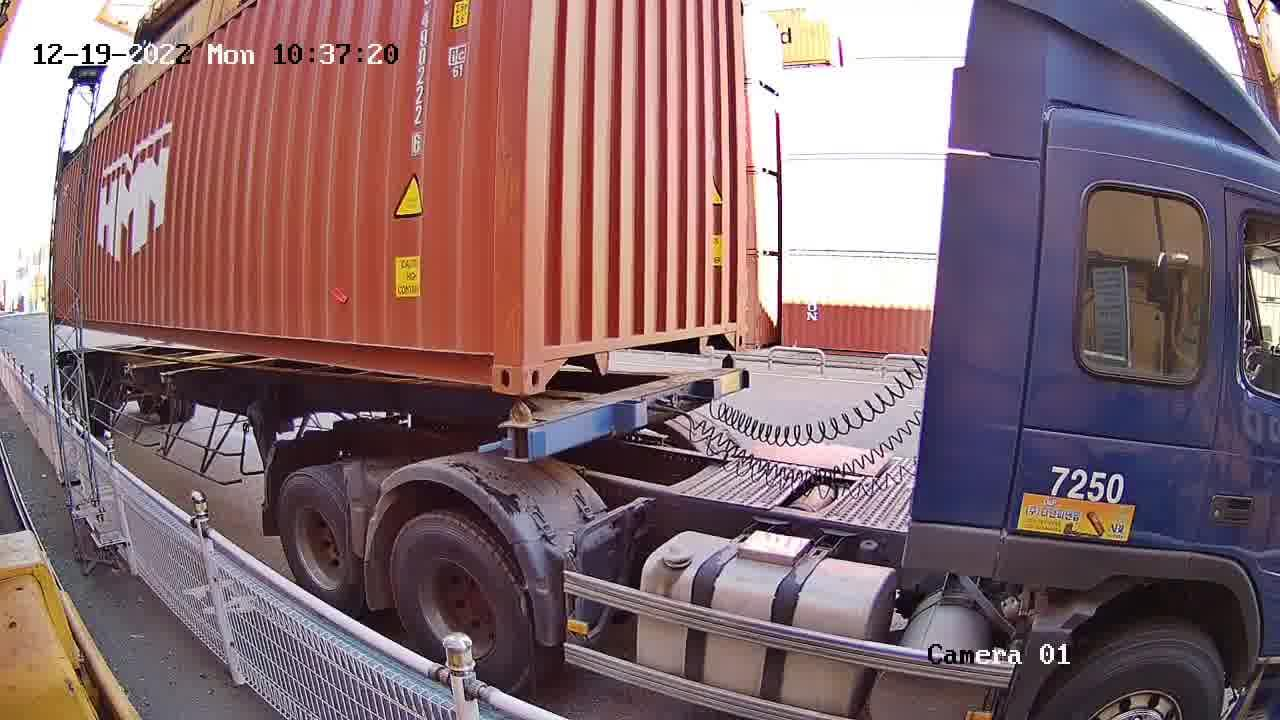Chassis: (503, 367, 743, 462)
Cone: (509, 403, 533, 461), (720, 353, 737, 389)
Hole_L: (522, 332, 573, 397)
Hole_R: (464, 329, 520, 395), (708, 310, 746, 353)
Tire: (394, 519, 523, 678), (279, 476, 350, 600)
